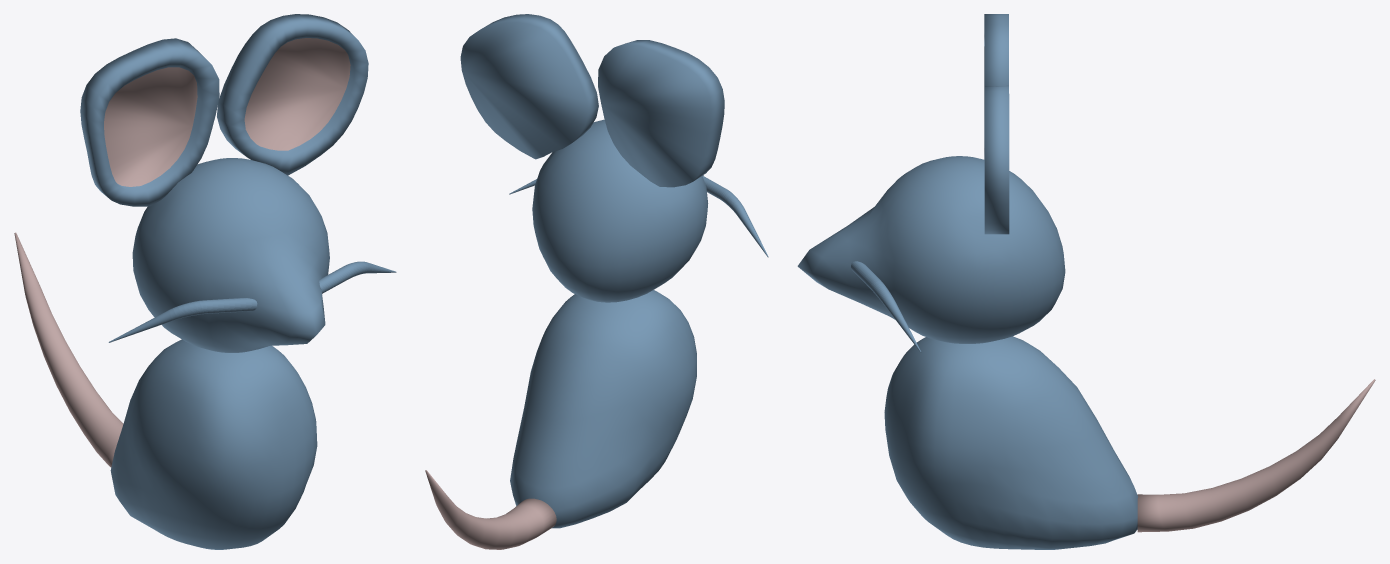
The model's file is Rato.fbx.
The picture shows the model from 3 angles, left to right: view 1: azimuth 30°, elevation 25°; view 2: azimuth 150°, elevation 25°; view 3: azimuth 270°, elevation 25°; orthographic projection. The views are drawn at different scales.
Visible parts, largest first — view 1: Sphere.005; view 2: Sphere.005; view 3: Sphere.005.
Boxes of the visible parts, bbox=[...] form: Sphere.005: bbox=[14, 14, 396, 549]; Sphere.005: bbox=[425, 14, 768, 549]; Sphere.005: bbox=[797, 14, 1375, 549].
Bounding box in the file's own units: 46.87 × 77.35 × 82.64.
